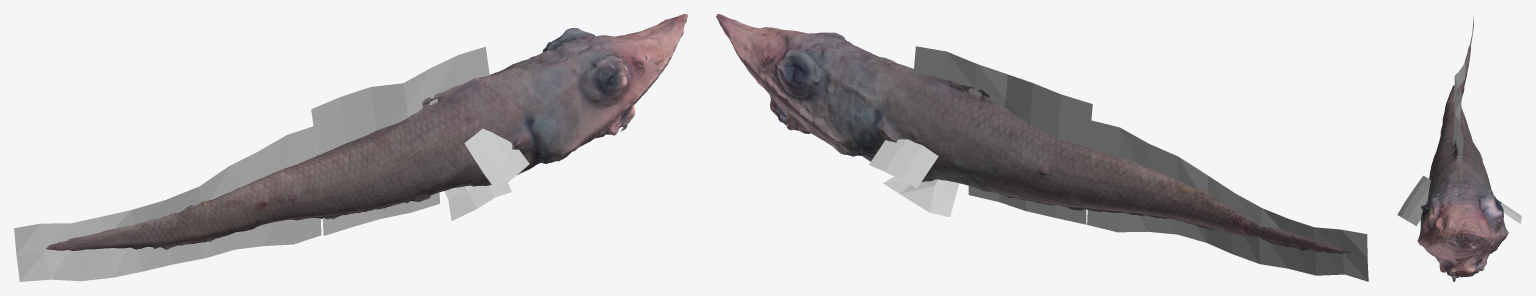
Rendered from 375 t trachy photo.obj.
3 views of the same model, side by side, from view 1: azimuth 30°, elevation 25°; view 2: azimuth 150°, elevation 25°; view 3: azimuth 270°, elevation 25° (orthographic). The views are drawn at different scales.
Size of the model in its own units: 31.89 by 6.79 by 6.35.
